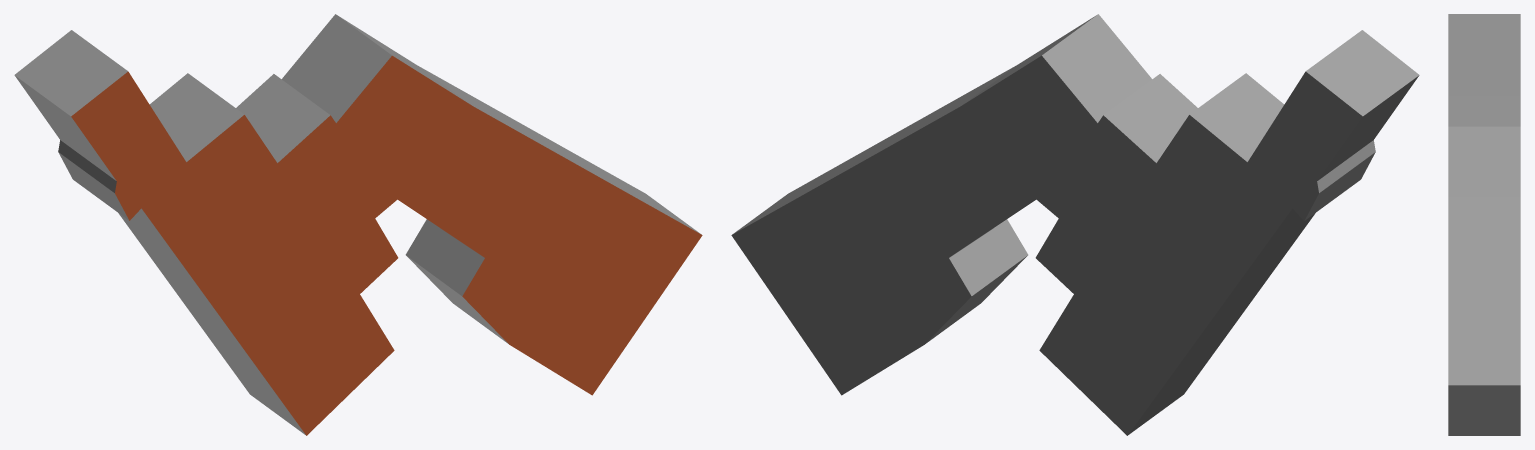
File: construction_3201_assumed_A_Casa_h6m.obj
3 renders of one model, left to right at view 1: azimuth 30°, elevation 25°; view 2: azimuth 150°, elevation 25°; view 3: azimuth 270°, elevation 25°, orthographic. The views are drawn at different scales.
Visible parts, largest first — view 1: construction_3201_assumed_A_Casa; view 2: construction_3201_assumed_A_Casa; view 3: construction_3201_assumed_A_Casa.
Boxes of the visible parts, left/top/right/bottom form: construction_3201_assumed_A_Casa: left=14, top=14, right=702, bottom=435; construction_3201_assumed_A_Casa: left=731, top=14, right=1419, bottom=435; construction_3201_assumed_A_Casa: left=1448, top=14, right=1520, bottom=435.
Size of the model in its own units: 38.57 by 25.53 by 6.
